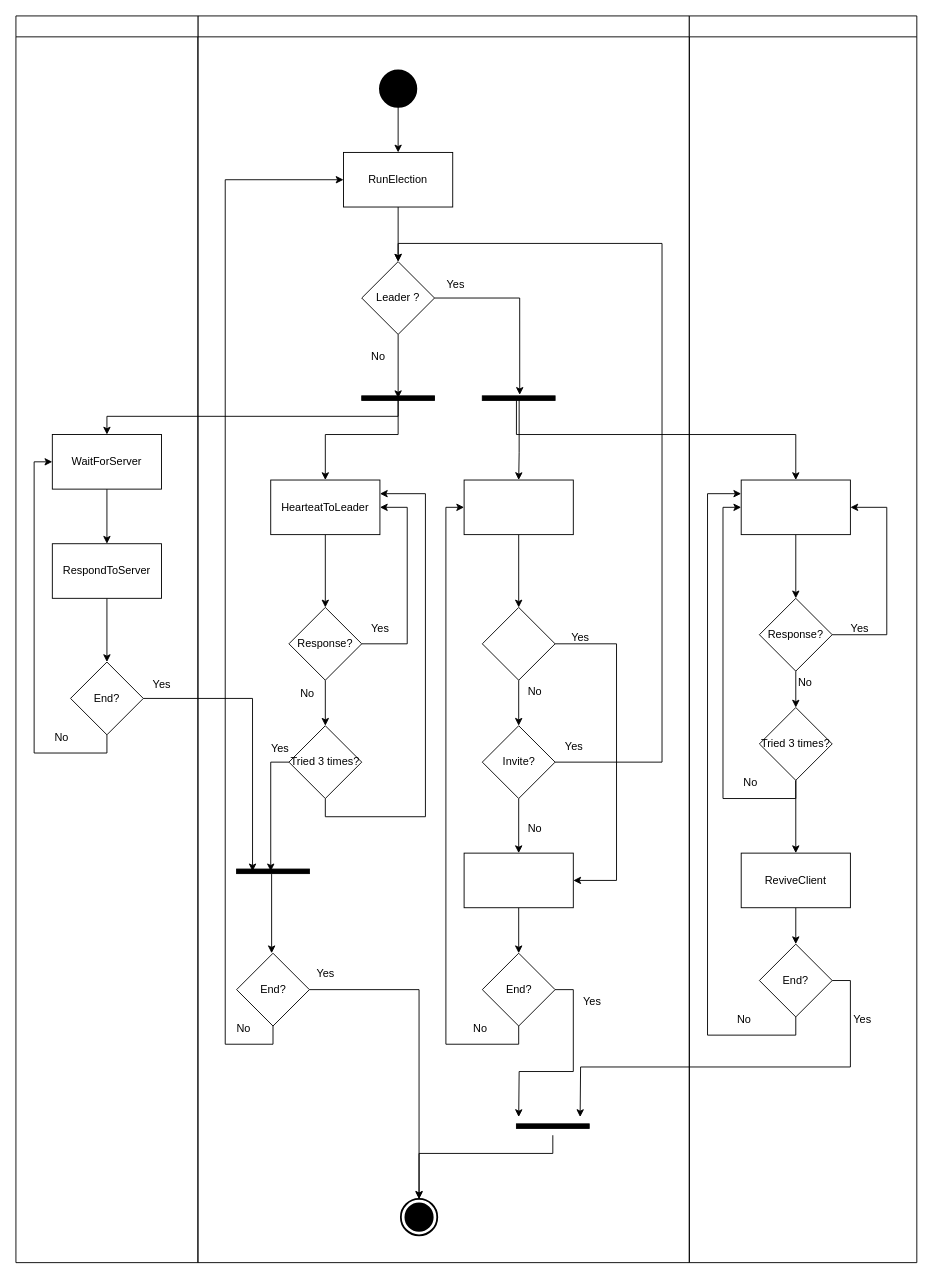
Some shapes in this 933 by 1279 pixel diagram are drawn without their labels. Each missing label, with the box of its shape:
BeaterClient: (15, 15, 198, 1263)
BeaterServer: (688, 15, 917, 1263)
Heartbeat?: (481, 607, 555, 680)
Main: (197, 15, 689, 1263)
RecievePeerMessage: (463, 479, 573, 535)
RespondToClient: (463, 852, 573, 908)
SendBeatToClient: (740, 479, 850, 535)
